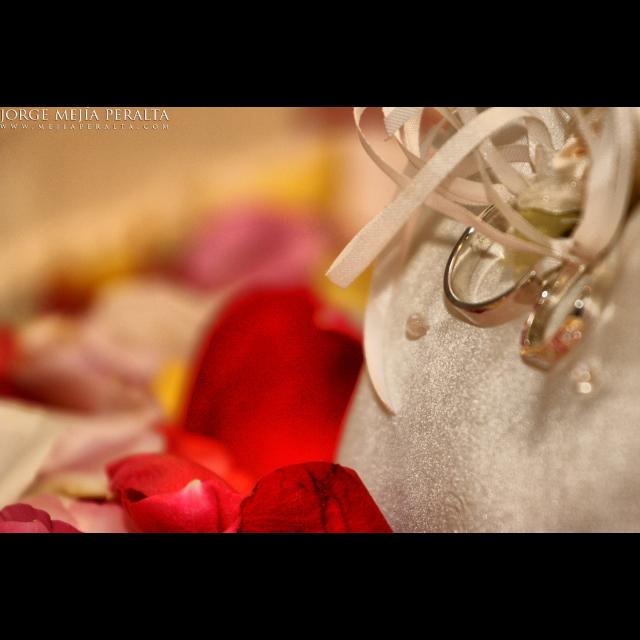Flower: (1, 208, 393, 534)
